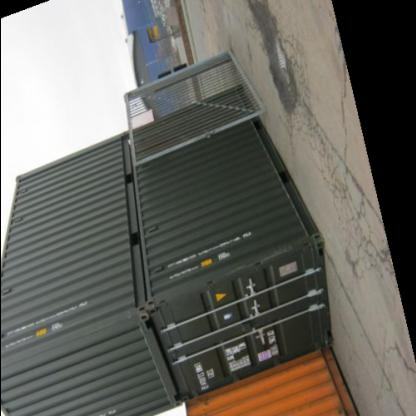Damage: (205, 245, 299, 278), (282, 394, 328, 412)
